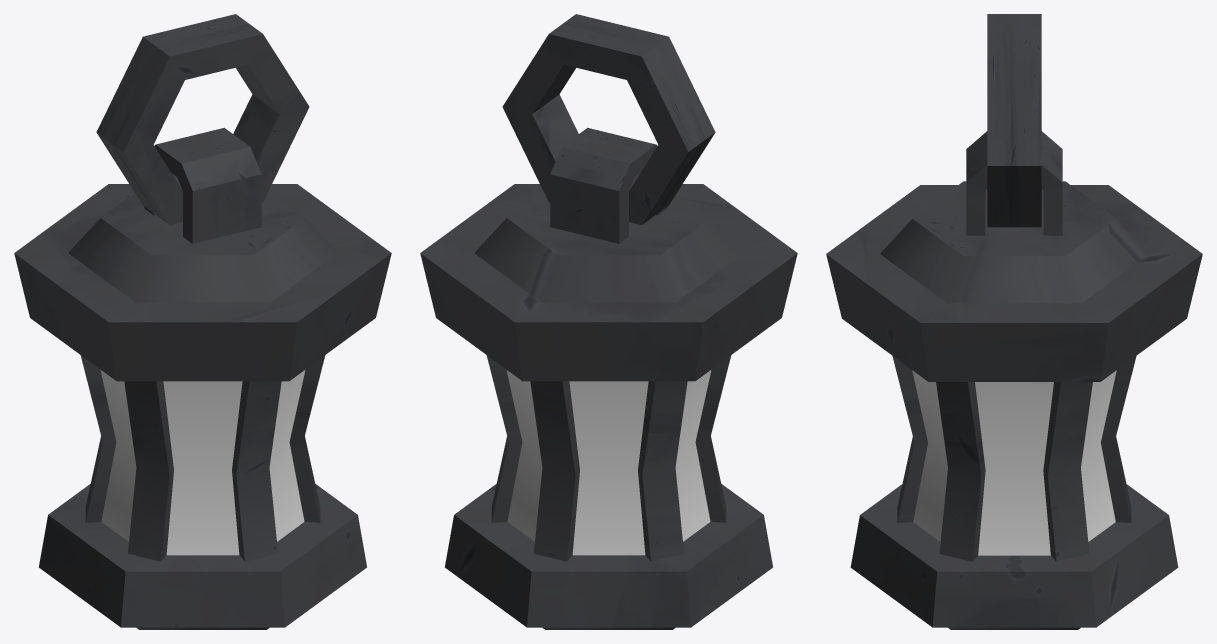
Rendered from SM_PROP_lantern_04.fbx.
3 renders of one model, left to right at view 1: azimuth 30°, elevation 25°; view 2: azimuth 150°, elevation 25°; view 3: azimuth 270°, elevation 25°, orthographic.
Parts seen in each view (by area): view 1: SM_PROP_lantern_04; view 2: SM_PROP_lantern_04; view 3: SM_PROP_lantern_04.
Part boxes in pixels (box(x1,y1,x2,y2)): SM_PROP_lantern_04: box(14, 14, 391, 629); SM_PROP_lantern_04: box(420, 14, 797, 629); SM_PROP_lantern_04: box(826, 14, 1202, 629).
Bounding box in the file's own units: 50.77 × 93.9 × 58.63.
